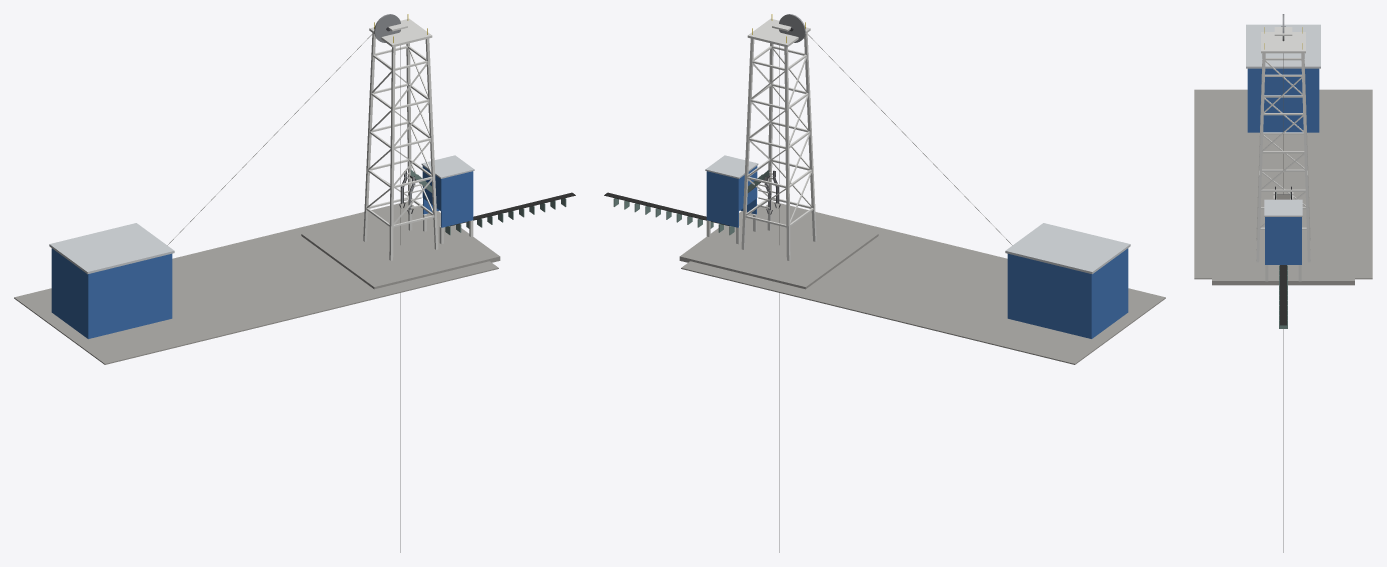
File: SK_Headframe_Surface.glb
3 renders of one model, left to right at view 1: azimuth 30°, elevation 25°; view 2: azimuth 150°, elevation 25°; view 3: azimuth 270°, elevation 25°, orthographic.
Visible parts, largest first — view 1: SK_Headframe; view 2: SK_Headframe; view 3: SK_Headframe, SK_Rope.
Boxes of the visible parts, left/top/right/bottom form: SK_Headframe: left=14, top=14, right=575, bottom=364; SK_Headframe: left=604, top=14, right=1165, bottom=364; SK_Headframe: left=1194, top=24, right=1372, bottom=328; SK_Rope: left=1283, top=36, right=1283, bottom=552.
Size of the model in its own units: 98 by 98.5 by 30.
